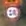limite 30: (3, 4, 20, 21)
